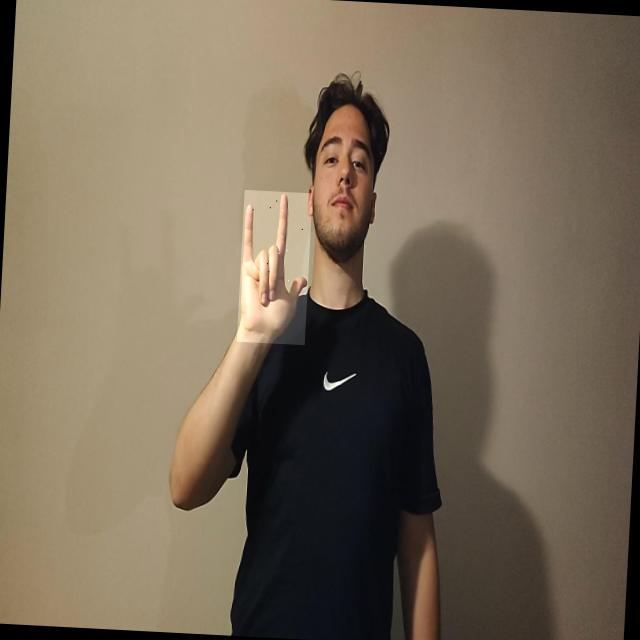iloveyou: (236, 190, 312, 345)
